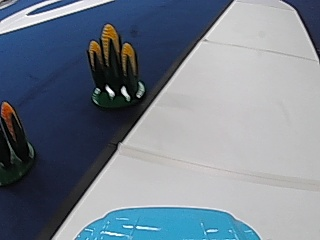corn: (86, 19, 146, 108), (0, 98, 36, 185)
